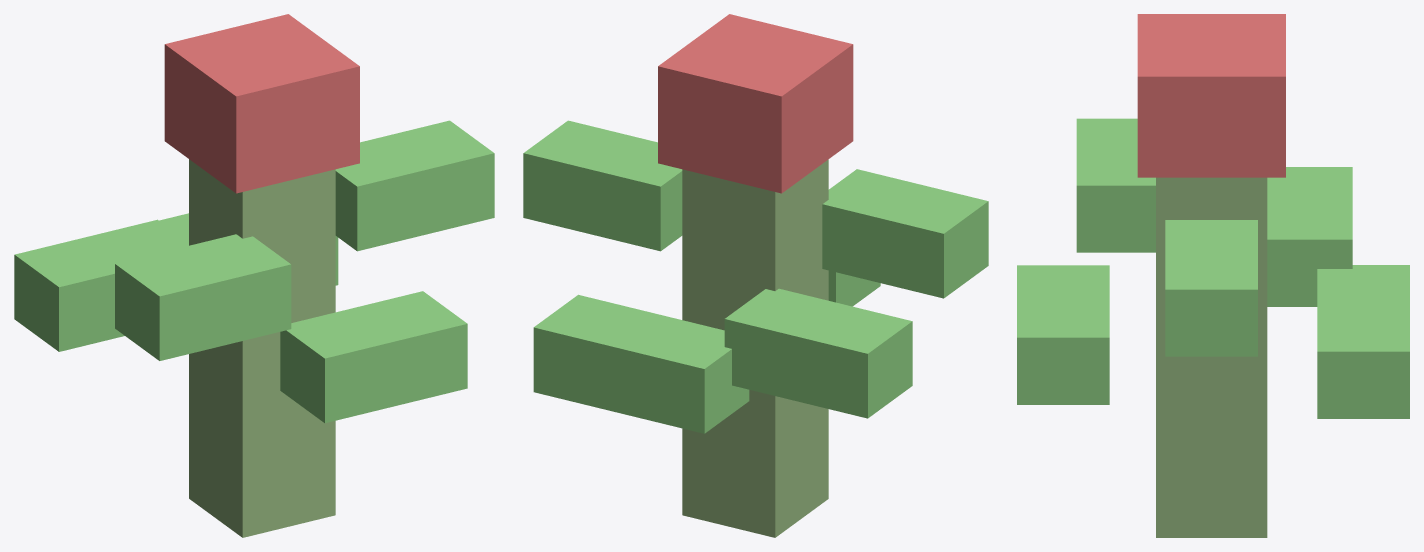
Rendered from Prop_Herb_AMF_Guardthistle_V3.glb.
3 renders of one model, left to right at view 1: azimuth 30°, elevation 25°; view 2: azimuth 150°, elevation 25°; view 3: azimuth 270°, elevation 25°, orthographic. The views are drawn at different scales.
Parts seen in each view (by area): view 1: Prop_Herb_AMF_Guardthistle_V3; view 2: Prop_Herb_AMF_Guardthistle_V3; view 3: Prop_Herb_AMF_Guardthistle_V3.
Boxes of the visible parts, <box> form: Prop_Herb_AMF_Guardthistle_V3: <box>14,14,494,537</box>; Prop_Herb_AMF_Guardthistle_V3: <box>523,14,988,537</box>; Prop_Herb_AMF_Guardthistle_V3: <box>1017,14,1409,537</box>.
Size of the model in its own units: 0.2521 by 0.2792 by 0.2118.
